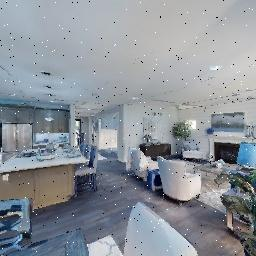chair: (71, 140, 104, 194)
sofa: (157, 154, 205, 205)
